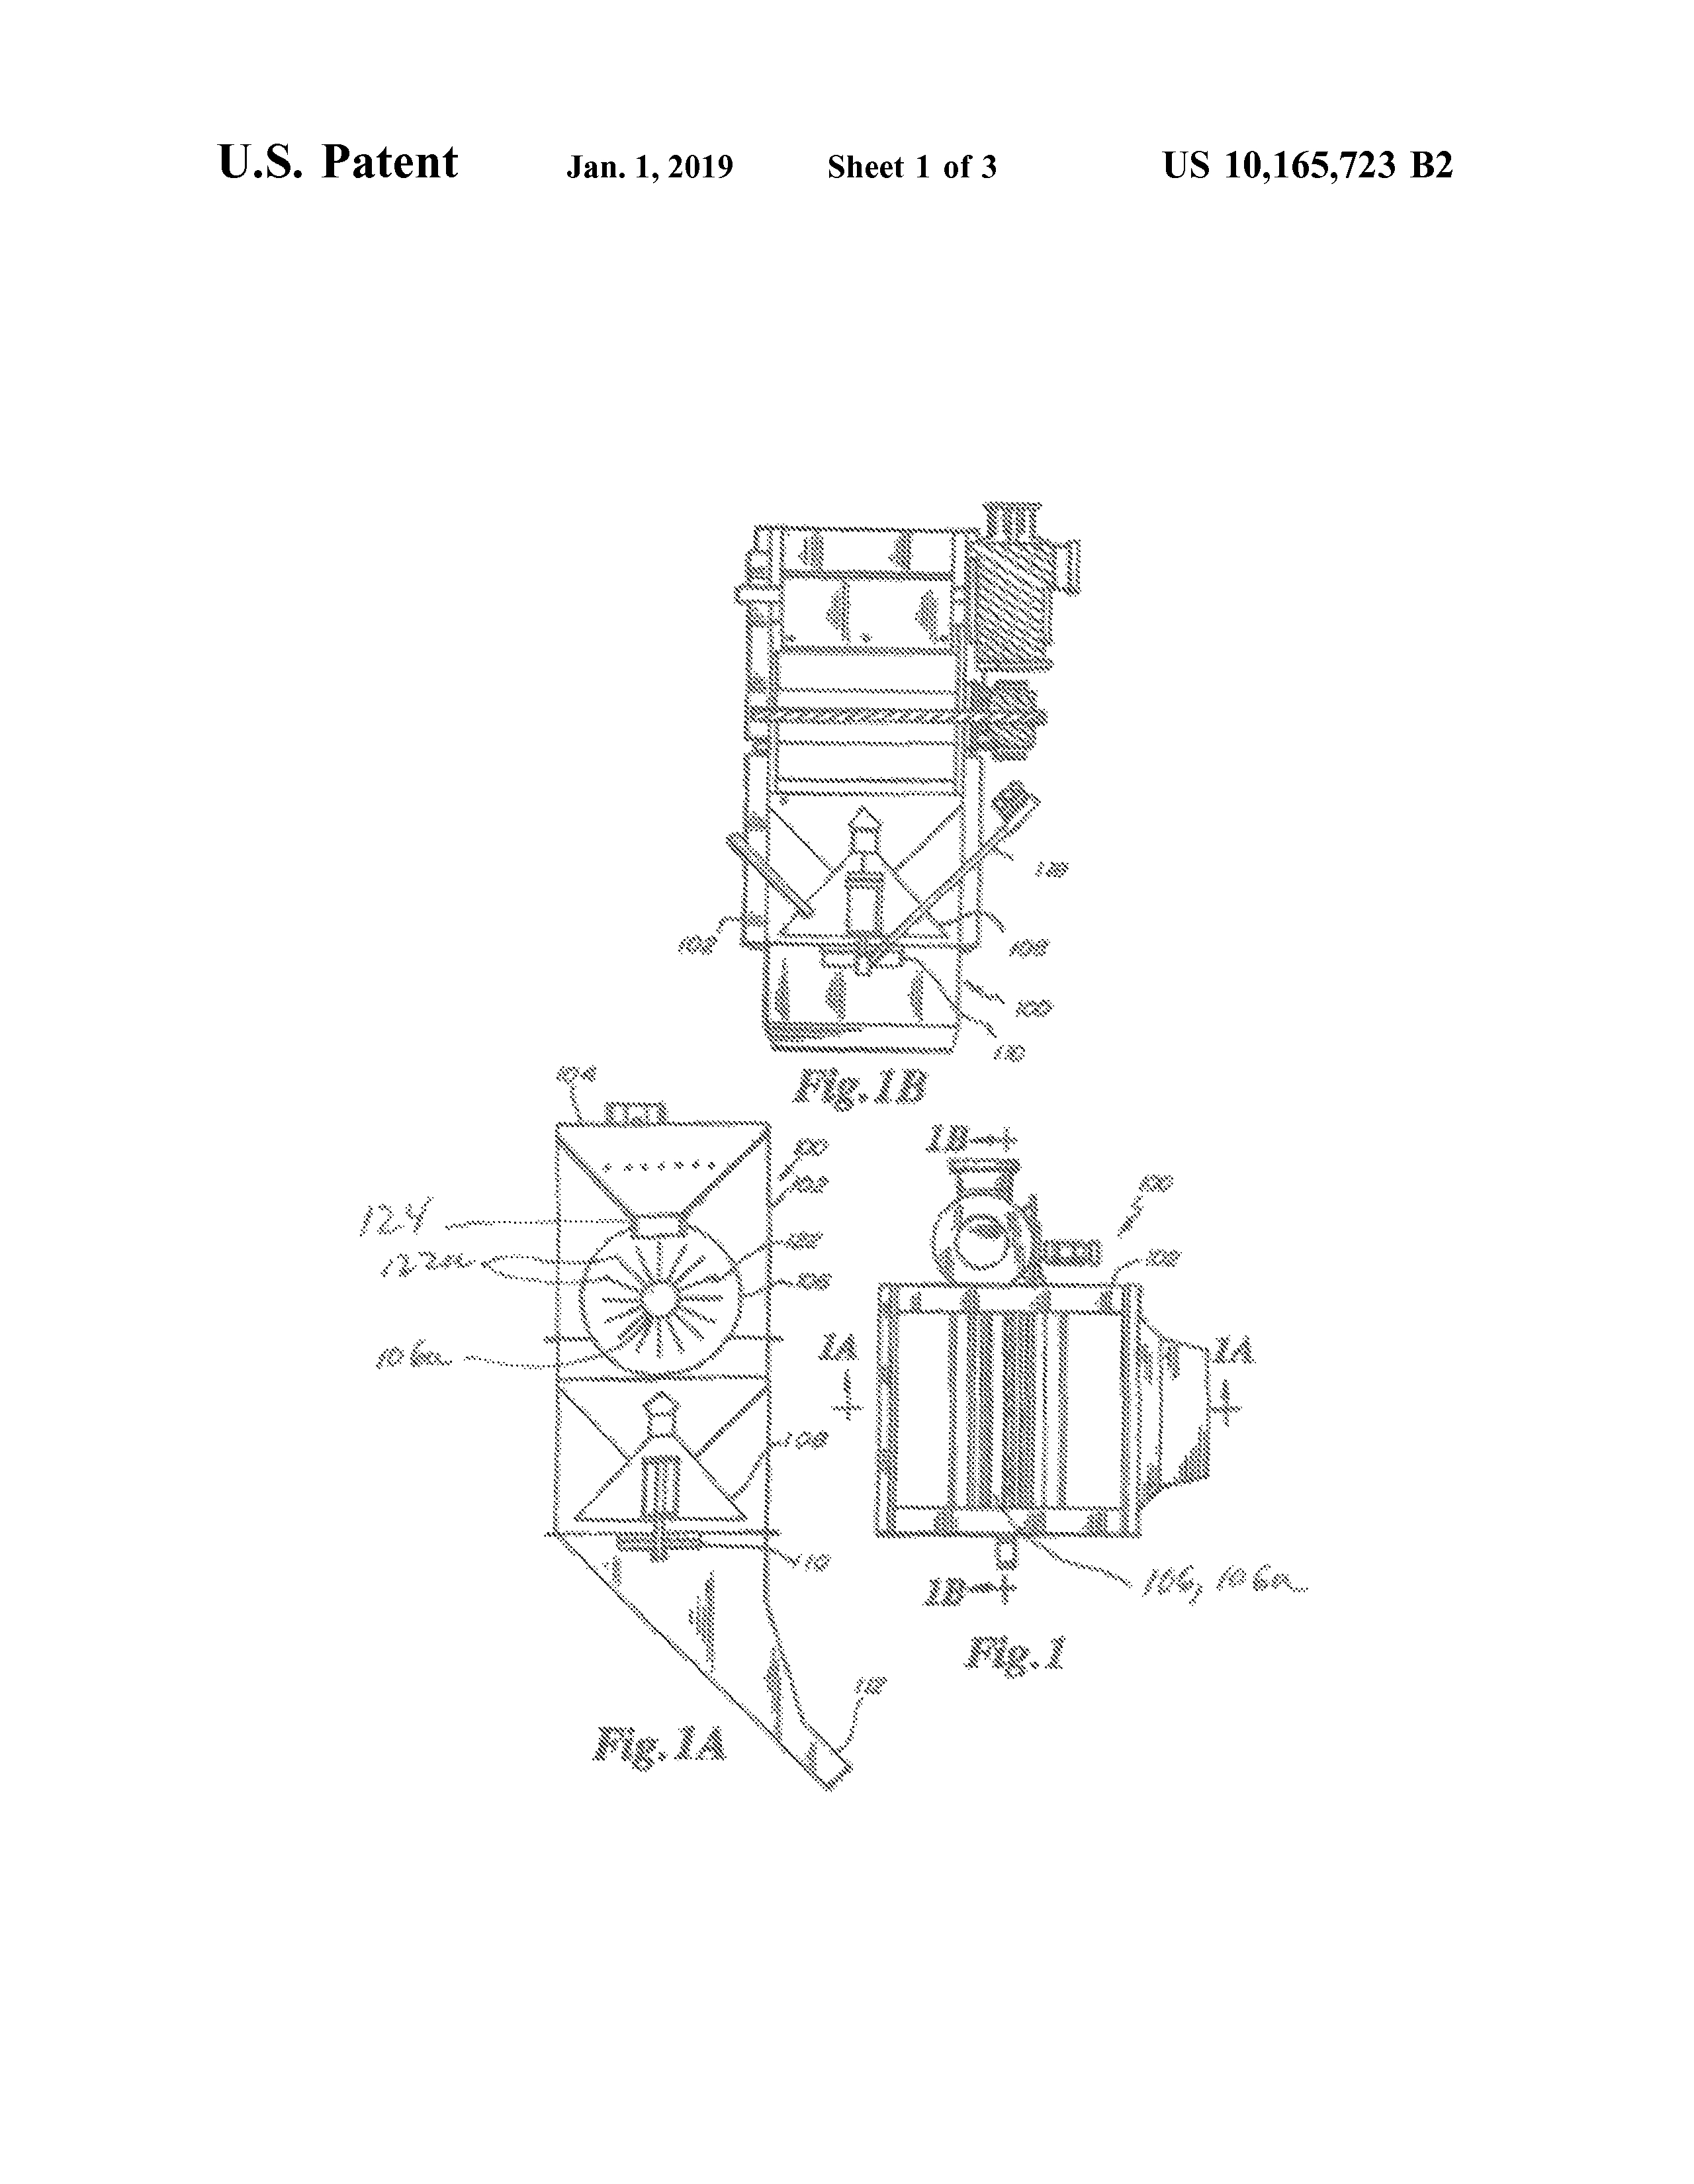patent image: (353, 1053, 894, 1815), (819, 1116, 1366, 1689), (667, 492, 1084, 1113)
